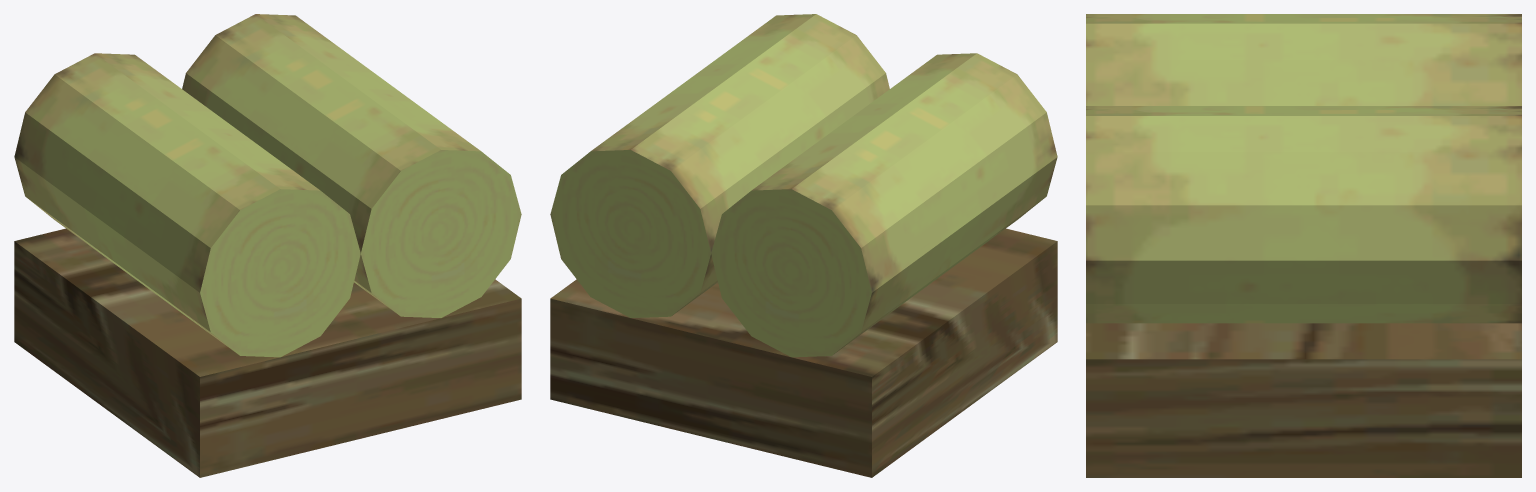
The model's file is conveyor_belt.glb.
The picture shows the model from 3 angles, left to right: view 1: azimuth 30°, elevation 25°; view 2: azimuth 150°, elevation 25°; view 3: azimuth 270°, elevation 25°; orthographic projection. The views are drawn at different scales.
Visible parts, largest first — view 1: Cube, Cylinder.001, Cylinder; view 2: Cube, Cylinder.001, Cylinder; view 3: Cylinder, Cube, Cylinder.001.
Part boxes in pixels (bbox=[...]): Cube: bbox=[14, 228, 521, 477]; Cylinder.001: bbox=[14, 53, 360, 357]; Cylinder: bbox=[182, 14, 521, 317]; Cube: bbox=[550, 228, 1057, 477]; Cylinder.001: bbox=[711, 53, 1057, 357]; Cylinder: bbox=[550, 14, 889, 317]; Cylinder: bbox=[1086, 106, 1521, 323]; Cube: bbox=[1086, 323, 1521, 477]; Cylinder.001: bbox=[1086, 14, 1521, 105].
Bounding box in the file's own units: 1 × 0.8 × 1.
1 material, 1 textured.
